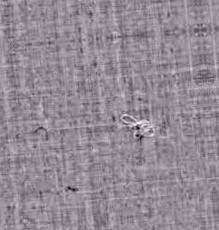snag: (114, 106, 162, 145)
